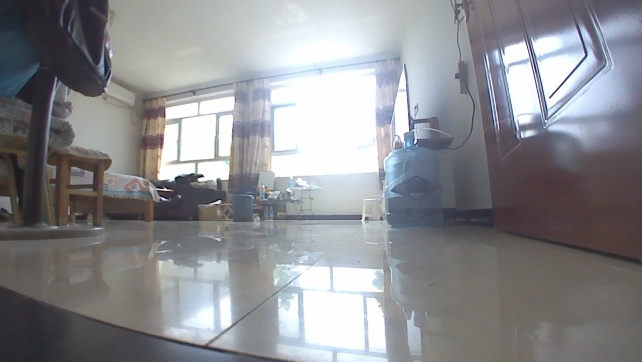chair_base: (0, 215, 106, 242)
door_anno: (457, 0, 641, 265)
wire: (443, 0, 477, 152)
